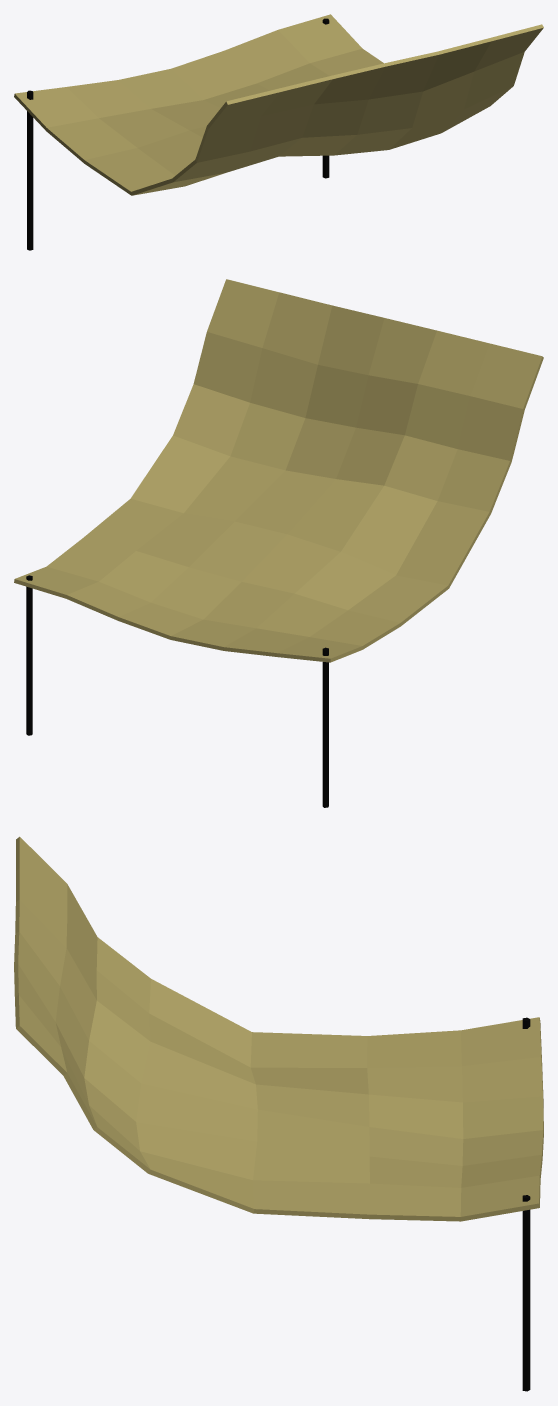
The model's file is awning.fbx.
3 renders of one model, top to bottom at view 1: azimuth 30°, elevation 25°; view 2: azimuth 150°, elevation 25°; view 3: azimuth 270°, elevation 25°, orthographic. The views are drawn at different scales.
Parts seen in each view (by area): view 1: Awning; view 2: Awning; view 3: Awning.
Boxes of the visible parts, box(x1,y1,x2,y2) form: Awning: box(14, 14, 543, 250); Awning: box(14, 279, 543, 807); Awning: box(14, 836, 543, 1391).
Bounding box in the file's own units: 544 × 492 × 639.
